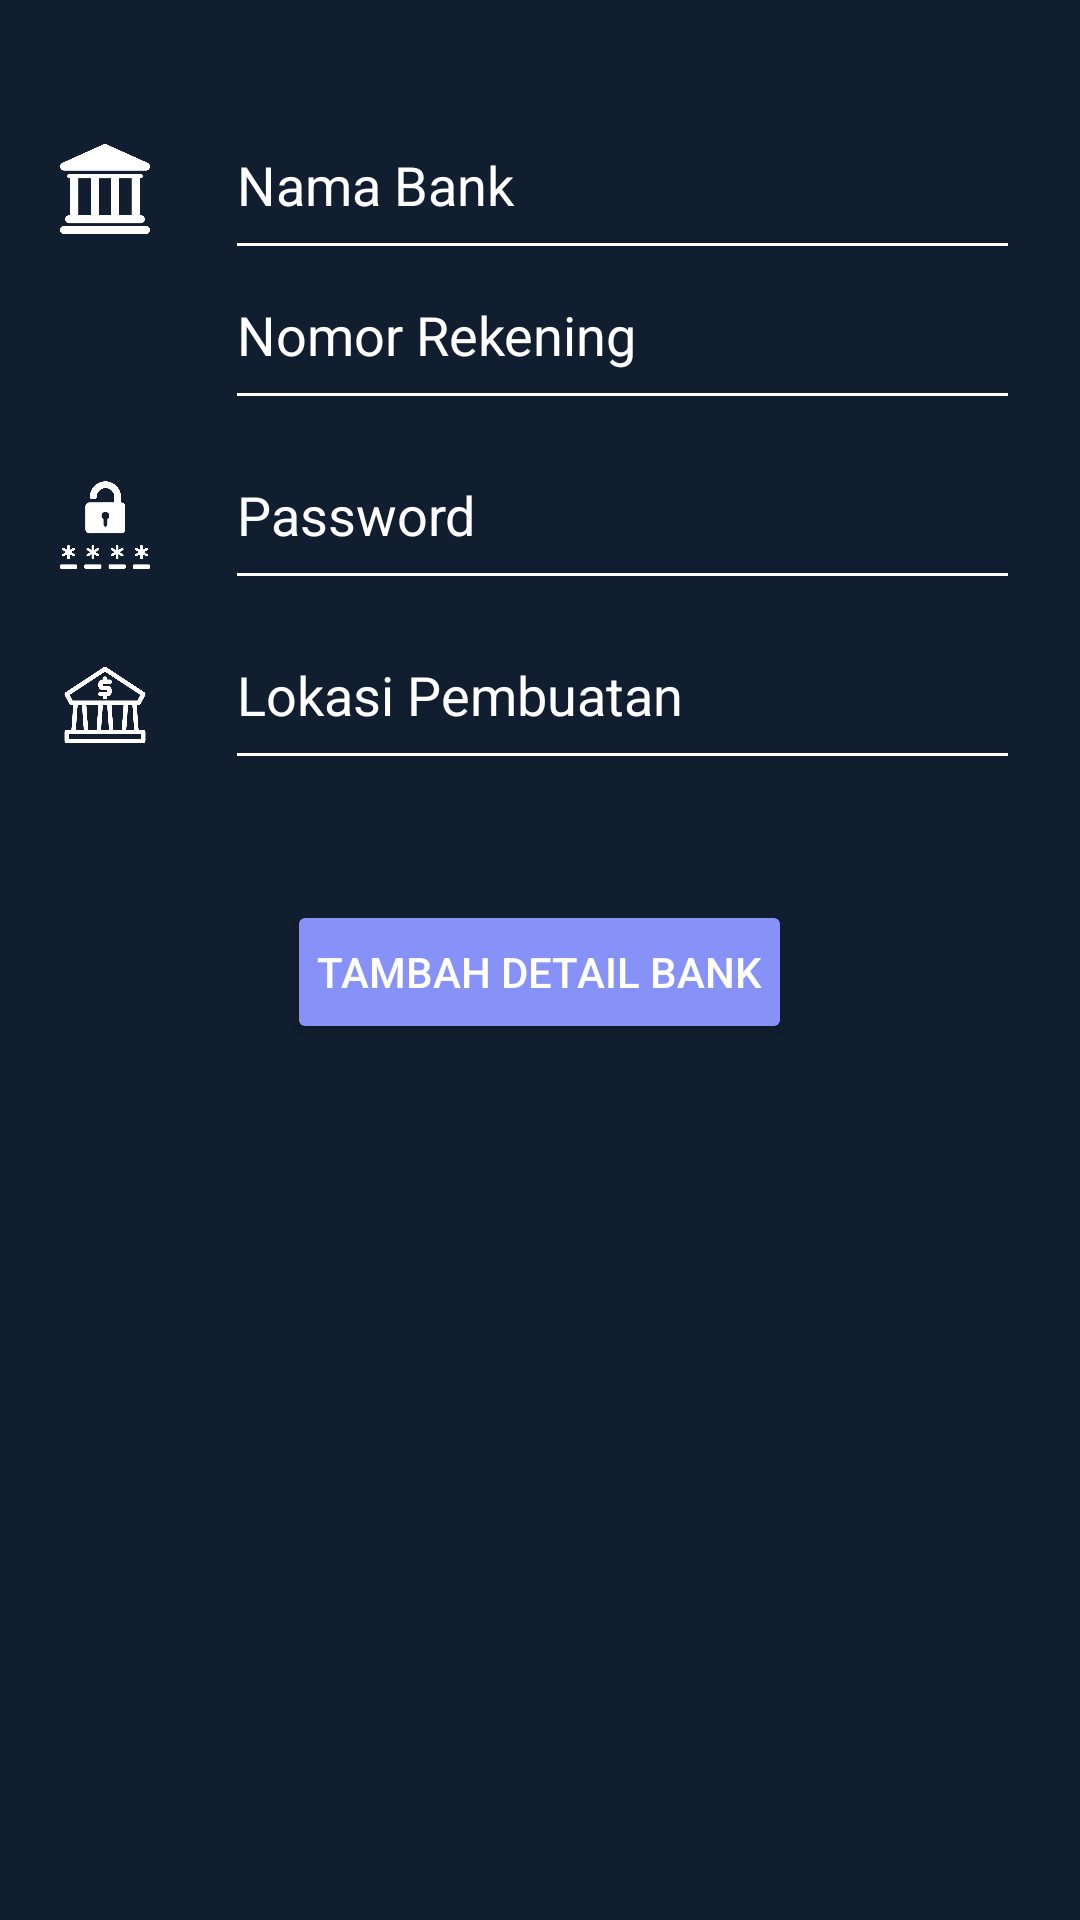

Icons on this 1080*1920 Android screen, each with the point to tap as [x,y]:
branch: [105,705]
